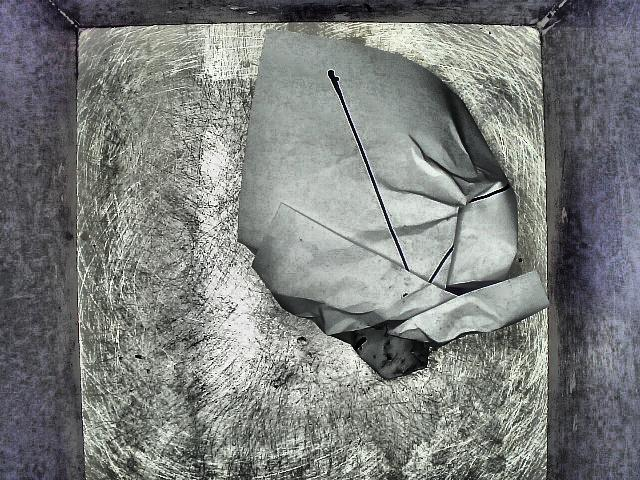Paper: (196, 13, 567, 385)
